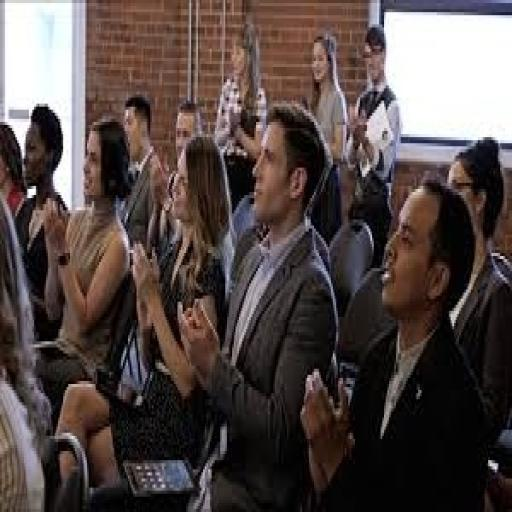clapping: (0, 40, 174, 436), (176, 97, 340, 509), (298, 174, 490, 509), (100, 112, 276, 472)
